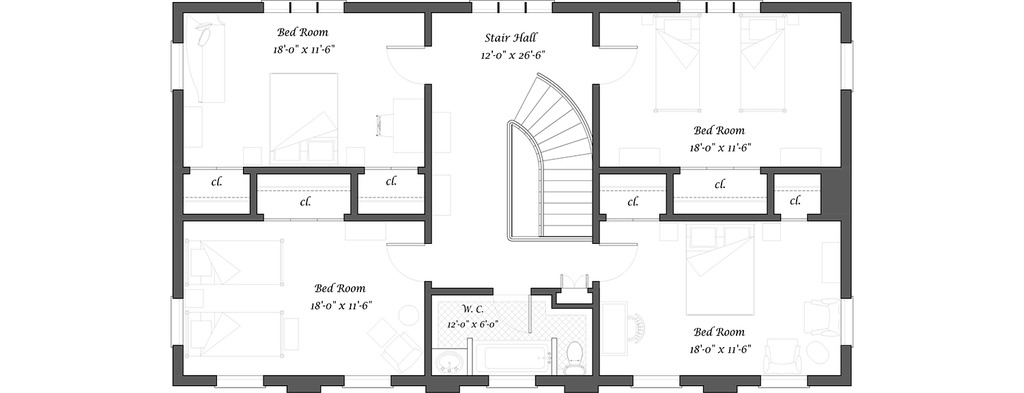bed: (253, 71, 342, 165), (682, 225, 760, 319), (185, 309, 301, 365), (735, 12, 791, 114), (180, 237, 284, 290), (649, 13, 702, 112)
door: (385, 41, 430, 87), (597, 240, 642, 284), (385, 240, 426, 288)
large_sink: (554, 340, 590, 377)
small_sofa: (757, 336, 806, 377), (800, 292, 837, 341)
stairs: (508, 71, 595, 243)
tub: (465, 337, 559, 377)
windows: (467, 1, 556, 19), (260, 1, 346, 19), (677, 1, 767, 15), (338, 371, 395, 390), (167, 36, 184, 96), (837, 39, 856, 92), (203, 373, 270, 388)
